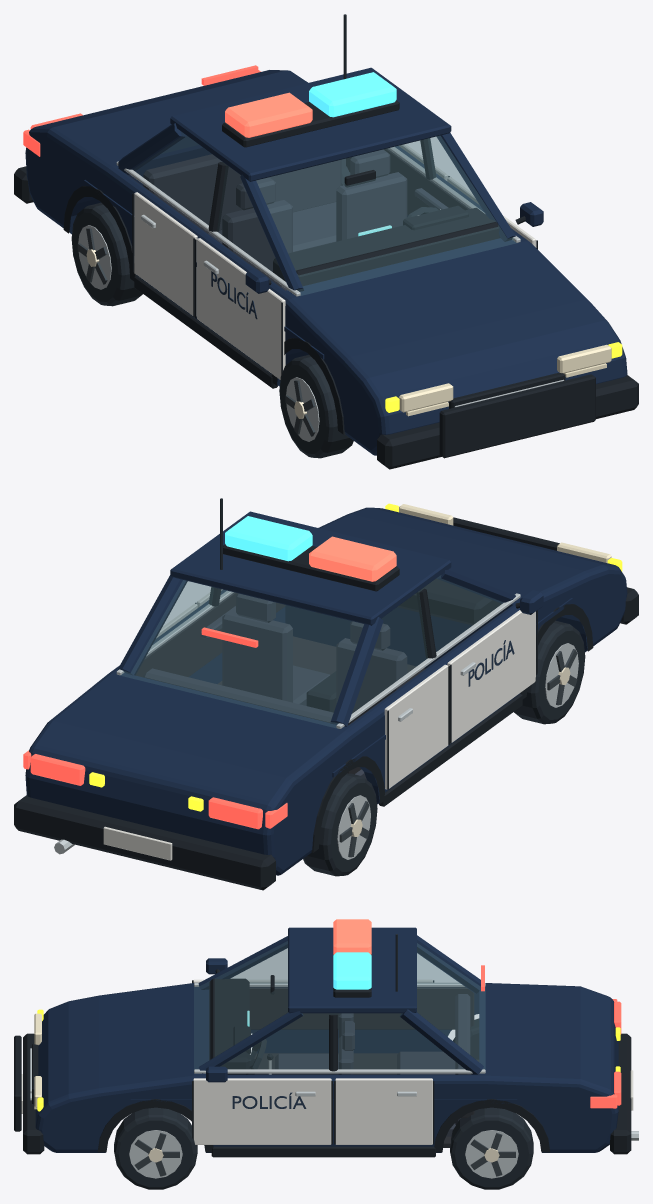
The model's file is Car_Police.fbx.
3 renders of one model, top to bottom at view 1: azimuth 30°, elevation 25°; view 2: azimuth 150°, elevation 25°; view 3: azimuth 270°, elevation 25°, orthographic. The views are drawn at different scales.
Visible parts, largest first — view 1: Body.007, WindowCabin.007, Roof.007, PushBar, Dashboard.007, DoorPanel_FR.007, RearSeatBack.005, DoorPanel_RR.006, SeatBack.014, FrontBumper.007, Tire_FR.007, Tire_RR.007 (+22 smaller); view 2: Body.007, WindowCabin.007, Roof.007, RearBumper.007, DoorPanel_FR.007, DoorPanel_RR.006, SeatBack.014, Tire_RR.007, DoorTrim.014, Tire_FR.007, SeatBack.015, LightBarBlue (+25 smaller); view 3: Body.007, WindowCabin.007, DoorPanel_FL.007, Roof.007, DoorPanel_RL.006, DoorTrim.015, Tire_RL.007, Tire_FL.007, Dashboard.007, SideSkirt_L.007, RearBumper.007, ArchTrim_LR.007 (+21 smaller).
Part boxes in pixels (bbox=[...]): Body.007: bbox=[25, 70, 627, 455]; WindowCabin.007: bbox=[133, 132, 515, 295]; Roof.007: bbox=[170, 67, 451, 181]; PushBar: bbox=[439, 374, 595, 458]; Dashboard.007: bbox=[273, 207, 500, 286]; DoorPanel_FR.007: bbox=[197, 238, 285, 379]; RearSeatBack.005: bbox=[143, 154, 341, 233]; DoorPanel_RR.006: bbox=[134, 192, 197, 316]; SeatBack.014: bbox=[336, 172, 407, 241]; FrontBumper.007: bbox=[377, 375, 638, 469]; Tire_FR.007: bbox=[279, 355, 353, 458]; Tire_RR.007: bbox=[71, 202, 142, 306]; Body.007: bbox=[25, 507, 627, 875]; WindowCabin.007: bbox=[120, 575, 502, 727]; Roof.007: bbox=[170, 511, 451, 625]; RearBumper.007: bbox=[14, 795, 275, 890]; DoorPanel_FR.007: bbox=[447, 610, 535, 742]; DoorPanel_RR.006: bbox=[384, 664, 448, 789]; SeatBack.014: bbox=[222, 610, 292, 702]; Tire_RR.007: bbox=[303, 773, 377, 876]; DoorTrim.014: bbox=[135, 592, 285, 677]; Tire_FR.007: bbox=[514, 620, 585, 724]; SeatBack.015: bbox=[336, 638, 407, 725]; LightBarBlue: bbox=[225, 516, 312, 561]; Body.007: bbox=[35, 983, 618, 1152]; WindowCabin.007: bbox=[194, 941, 485, 1069]; DoorPanel_FL.007: bbox=[193, 1078, 331, 1144]; Roof.007: bbox=[288, 927, 416, 1013]; DoorPanel_RL.006: bbox=[335, 1078, 432, 1144]; DoorTrim.015: bbox=[249, 987, 474, 1029]; Tire_RL.007: bbox=[450, 1107, 533, 1189]; Tire_FL.007: bbox=[114, 1107, 197, 1189]; Dashboard.007: bbox=[209, 978, 249, 1074]; SideSkirt_L.007: bbox=[211, 1146, 435, 1157]; RearBumper.007: bbox=[610, 1033, 631, 1154]; ArchTrim_LR.007: bbox=[434, 1099, 550, 1152].
Bounding box in the file's own units: 2.12 × 2 × 4.93.
